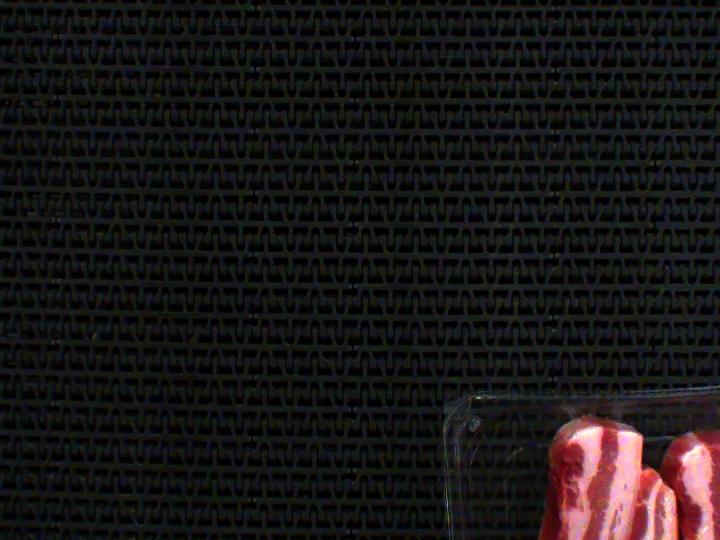packaging-error: (565, 398, 648, 426)
